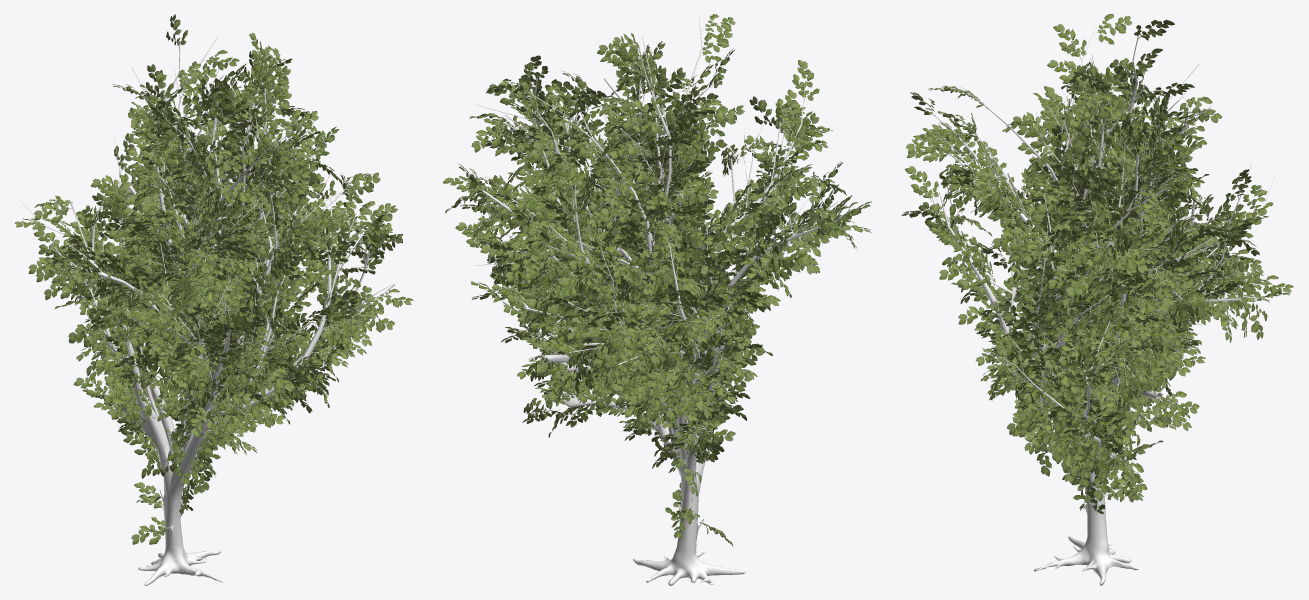
The model's file is birch.glb.
3 renders of one model, left to right at view 1: azimuth 30°, elevation 25°; view 2: azimuth 150°, elevation 25°; view 3: azimuth 270°, elevation 25°, orthographic. The views are drawn at different scales.
Visible parts, largest first — view 1: Birch tree.mesh; view 2: Birch tree.mesh; view 3: Birch tree.mesh.
Part boxes in pixels (x1=…): Birch tree.mesh: x1=14, y1=14, x2=413, y2=585; Birch tree.mesh: x1=442, y1=14, x2=871, y2=585; Birch tree.mesh: x1=901, y1=14, x2=1293, y2=585.
Bounding box in the file's own units: 6.18 × 8.4 × 5.34.
Materials: 3 (1 with a texture image).
